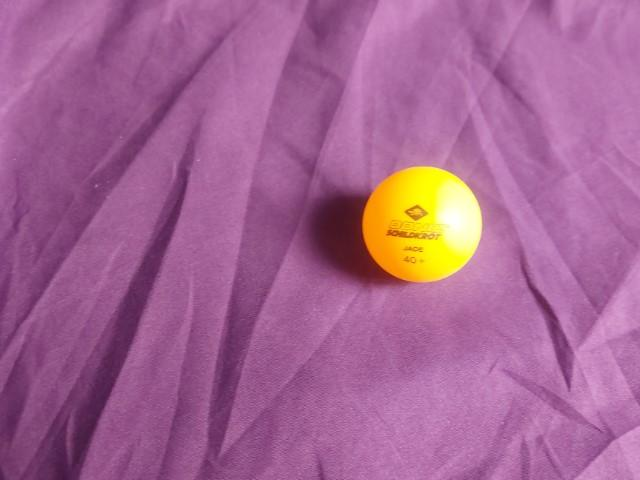oball: (354, 161, 490, 288)
